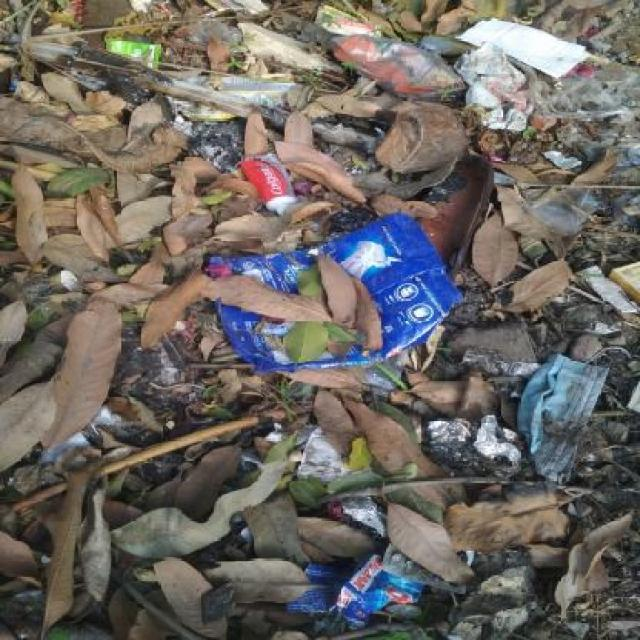garbage: (3, 322, 640, 473), (11, 489, 640, 640), (13, 159, 640, 300), (9, 8, 640, 136)
